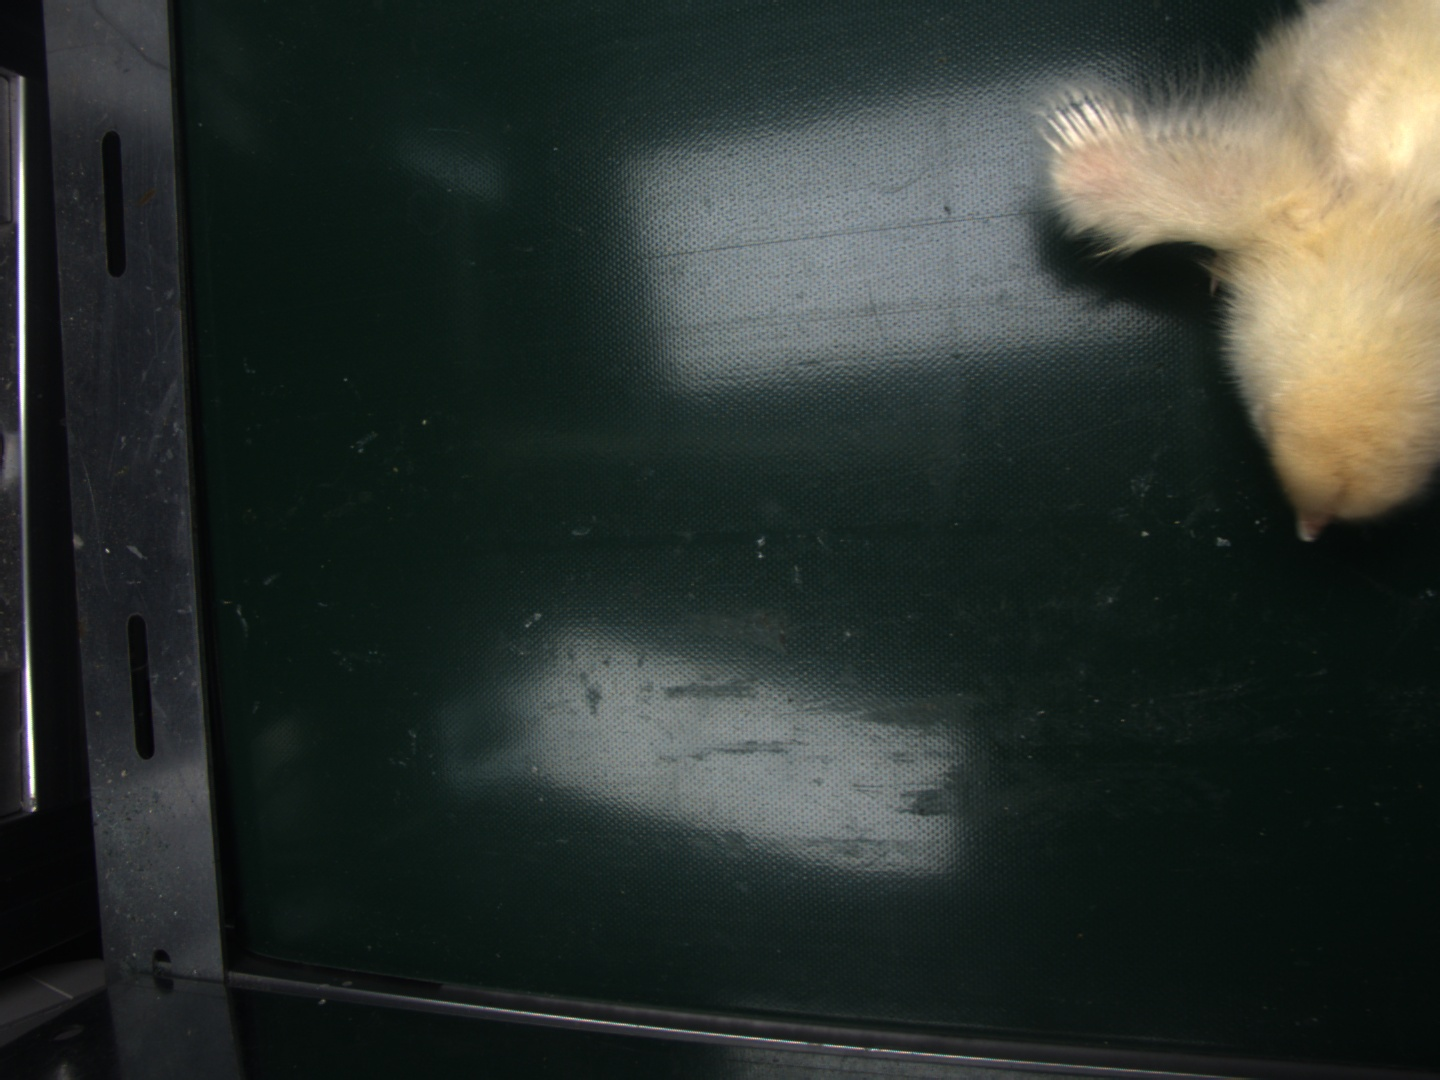male: (1047, 100, 1137, 157)
